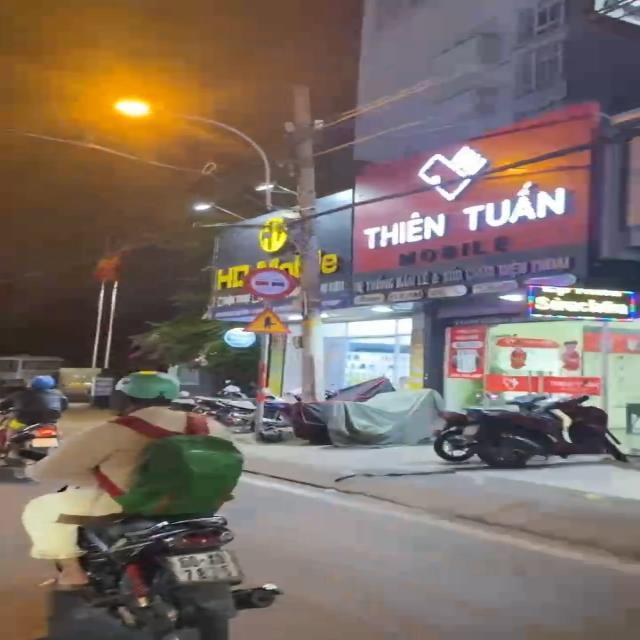125-cam-vuot: (244, 266, 296, 300)
207-giao-nhau-voi-duong-khong-uu-tien: (240, 306, 292, 334)
